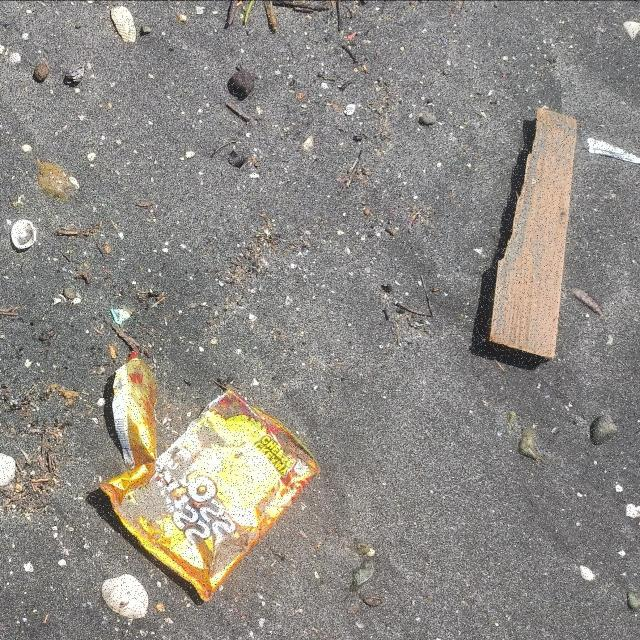plastic_waste: (98, 357, 324, 604)
wood_waste: (484, 108, 579, 363)
